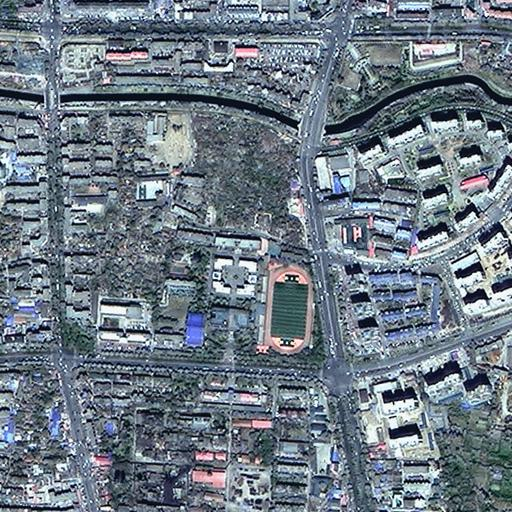school: (152, 233, 319, 359)
